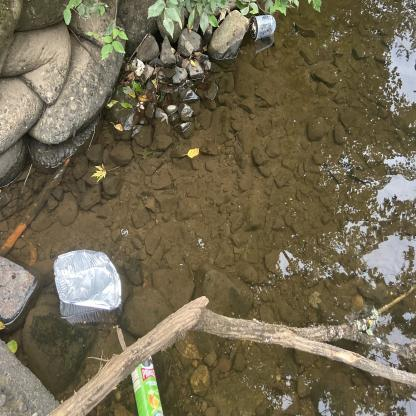trash: (50, 245, 126, 316), (128, 347, 166, 416), (245, 12, 279, 46)
